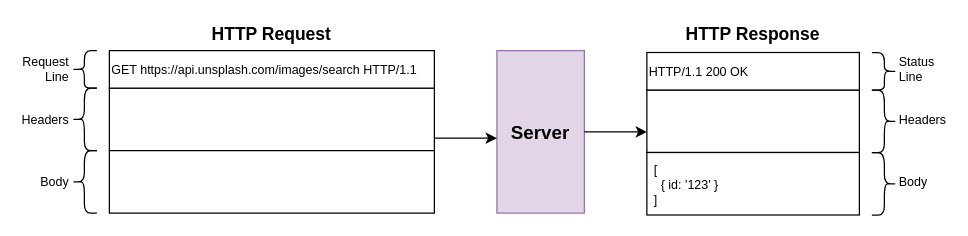
Image size: 968x236. Some labels were removed from this diagram. Each missing label, with the centre of its shape:
Accept-Version: v1 Authorization: Client-ID ABC123: (271,119)
Content-Length: 1000 Content-Type: application/json: (752,120)
